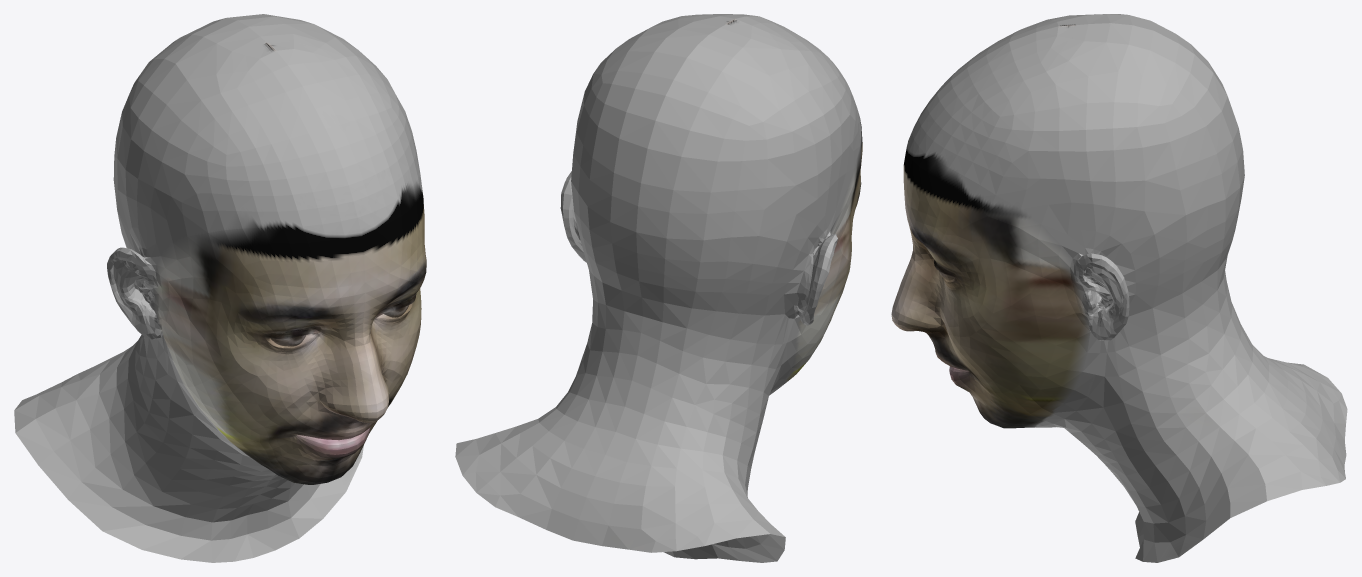
Rendered from ezgif-frame-023.obj.
3 renders of one model, left to right at view 1: azimuth 30°, elevation 25°; view 2: azimuth 150°, elevation 25°; view 3: azimuth 270°, elevation 25°, orthographic. The views are drawn at different scales.
Bounding box in the file's own units: 0.2097 × 0.3288 × 0.2634.
Materials: 1 (1 with a texture image).
